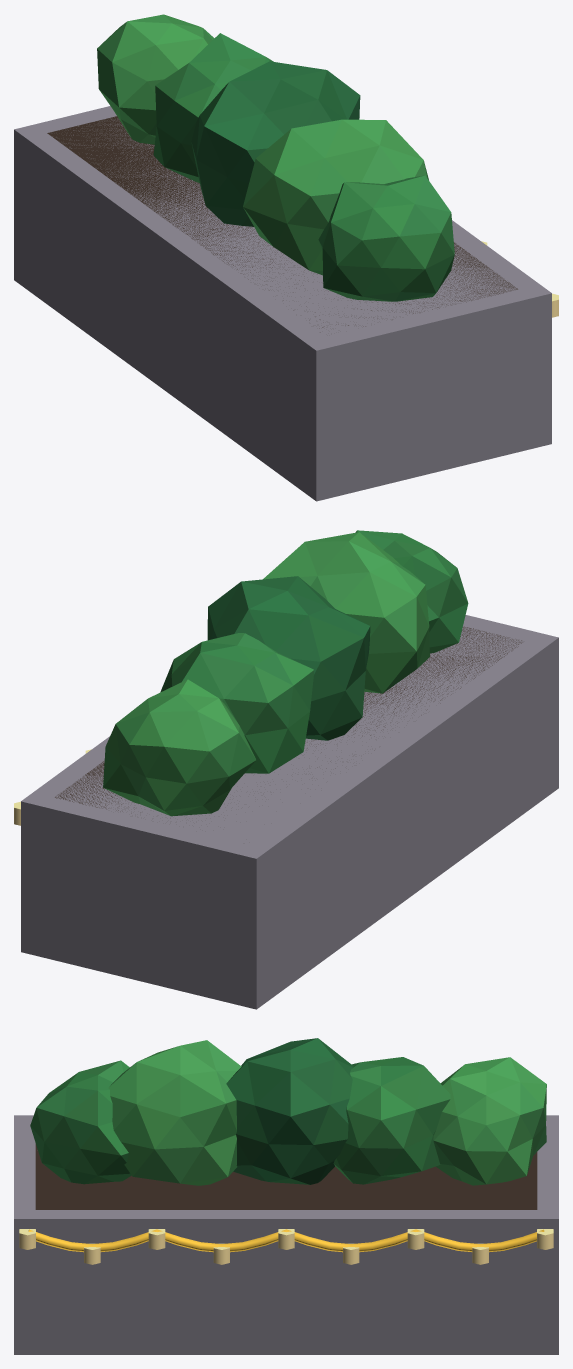
File: planter.glb
The picture shows the model from 3 angles, top to bottom: view 1: azimuth 30°, elevation 25°; view 2: azimuth 150°, elevation 25°; view 3: azimuth 270°, elevation 25°; orthographic projection. The views are drawn at different scales.
Visible parts, largest first — view 1: Planter; view 2: Planter; view 3: Planter, Neon_ffc93c.
Boxes of the visible parts, <box> form: Planter: <box>14,14,551,501</box>; Planter: <box>21,530,558,1009</box>; Planter: <box>14,1038,558,1354</box>; Neon_ffc93c: <box>19,1229,553,1264</box>.
Bounding box in the file's own units: 0.955 × 1.04 × 2.
